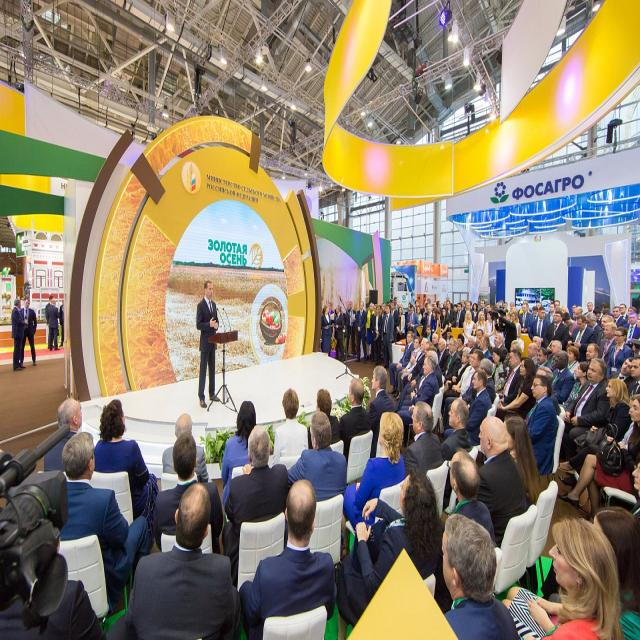body: (320, 297, 640, 401), (334, 465, 444, 640), (123, 479, 243, 639), (500, 505, 640, 640), (57, 432, 152, 602), (239, 478, 337, 638), (0, 499, 108, 640), (220, 423, 291, 594), (556, 393, 640, 527), (556, 393, 640, 526), (535, 517, 625, 640), (436, 512, 520, 640), (339, 410, 407, 566), (285, 409, 348, 557), (152, 431, 226, 555), (93, 398, 155, 521), (557, 377, 633, 476), (475, 414, 527, 548), (448, 447, 498, 549), (562, 356, 608, 455), (396, 354, 441, 446), (221, 399, 257, 513), (442, 368, 493, 448), (502, 415, 542, 514), (438, 398, 472, 511), (162, 412, 214, 484), (525, 373, 559, 478), (194, 278, 220, 409), (403, 399, 444, 478), (338, 376, 372, 467), (43, 397, 83, 474), (271, 387, 309, 466), (400, 354, 440, 422), (497, 356, 537, 424), (369, 364, 395, 460), (307, 386, 341, 450), (467, 356, 497, 410), (561, 360, 591, 412), (567, 313, 597, 364), (18, 296, 38, 369), (489, 306, 518, 353), (10, 298, 28, 372), (542, 309, 570, 355), (528, 306, 552, 348), (380, 303, 394, 372), (45, 297, 61, 351), (354, 300, 367, 362), (371, 304, 383, 366), (333, 304, 345, 363), (630, 452, 640, 522), (345, 300, 357, 358), (320, 303, 332, 354), (365, 302, 375, 362), (405, 302, 420, 342), (518, 301, 532, 341), (462, 308, 476, 346), (45, 295, 55, 345), (483, 310, 495, 350), (420, 306, 434, 339), (440, 306, 450, 348), (390, 301, 400, 342), (526, 306, 540, 334), (47, 301, 55, 349), (510, 310, 522, 341), (396, 306, 406, 343), (429, 307, 439, 344), (474, 299, 488, 325), (445, 299, 457, 329), (454, 301, 466, 329), (462, 300, 476, 323), (58, 297, 64, 348), (404, 302, 412, 340), (476, 310, 486, 340), (372, 303, 378, 317)
